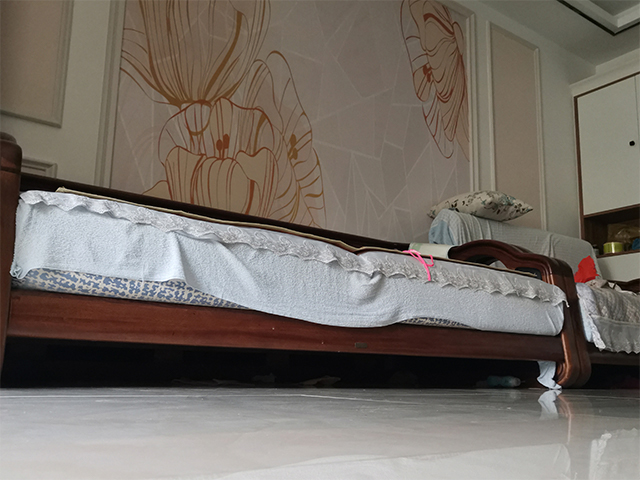cabinet: (569, 58, 640, 281)
sofa: (1, 129, 640, 390)
